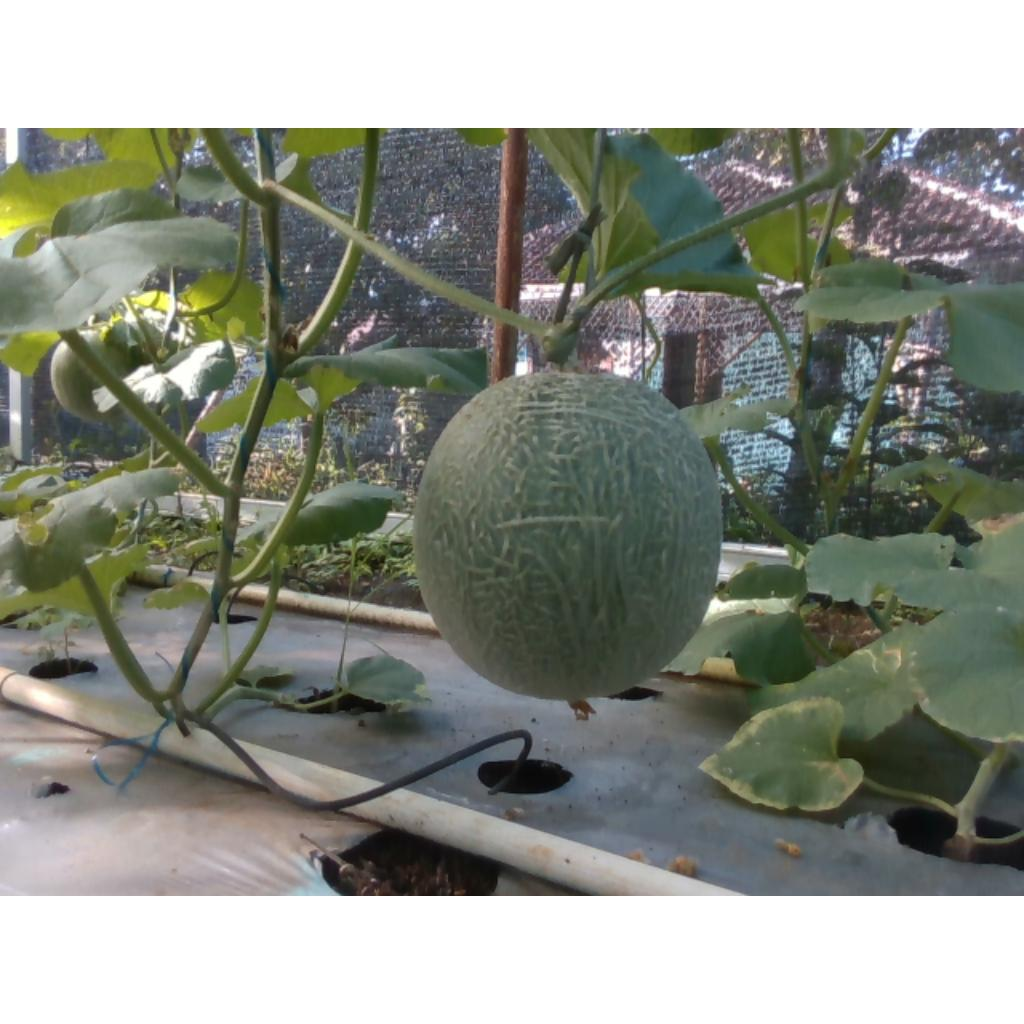melon: (414, 373, 722, 702)
